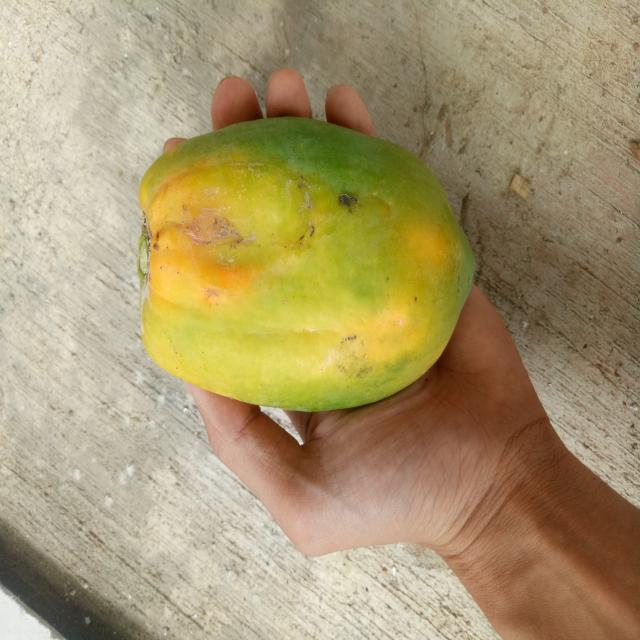Pepaya rippen: (118, 120, 486, 433)
